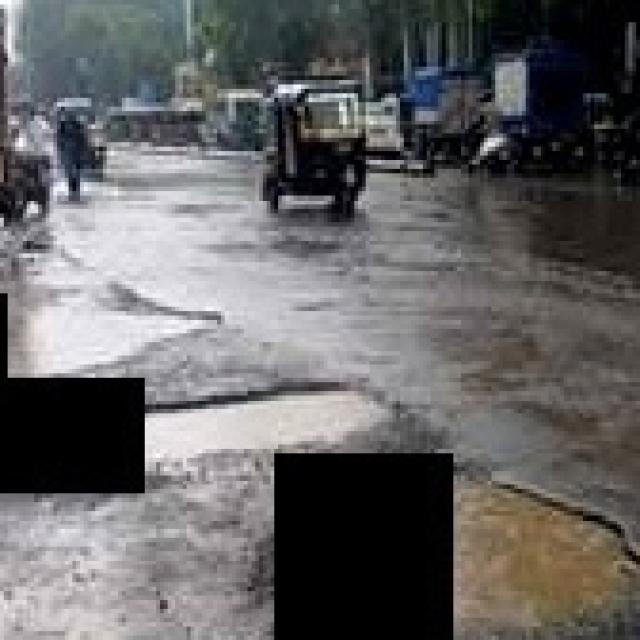road-pothole: (456, 455, 635, 636), (147, 375, 399, 472), (9, 271, 220, 377)
